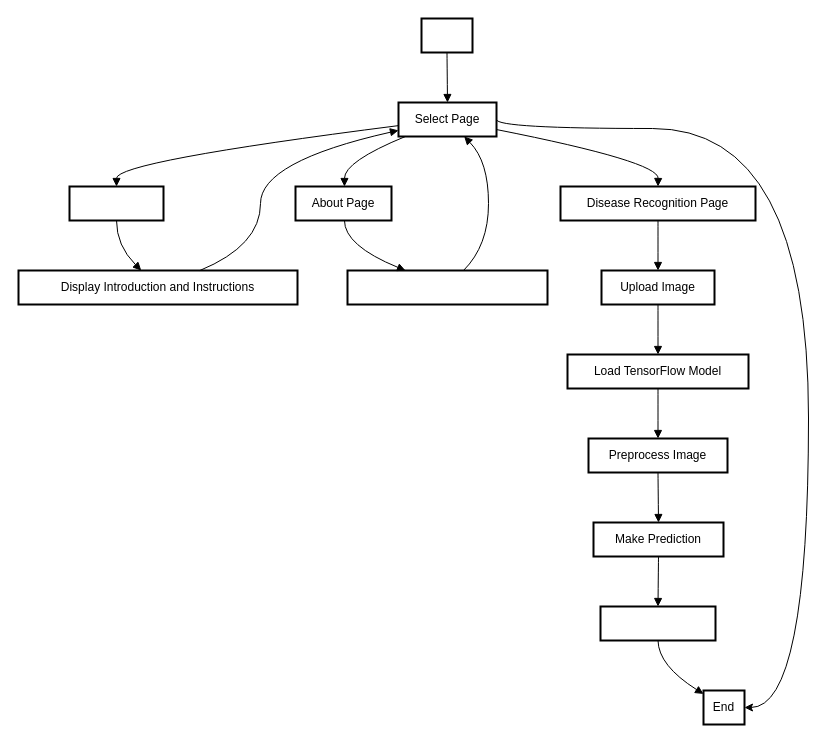
This 826x742 diagram has some shape labels left out. The shapes that lost their labels are listed below. From the top down, each one's box as (x1, y1, x2, y2) in pixels, then its label:
(420, 17, 473, 53): Start
(68, 185, 164, 221): Home Page
(346, 269, 548, 305): Show Dataset Information
(599, 605, 716, 641): Display Result
